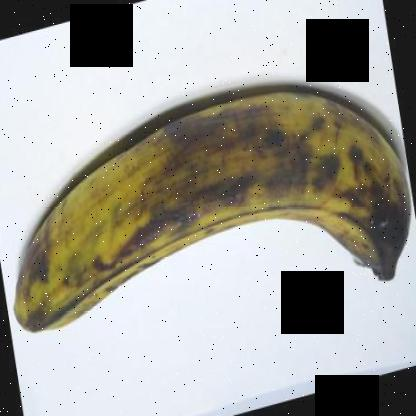overripe: (12, 36, 415, 353)
rotten: (349, 150, 415, 293)
